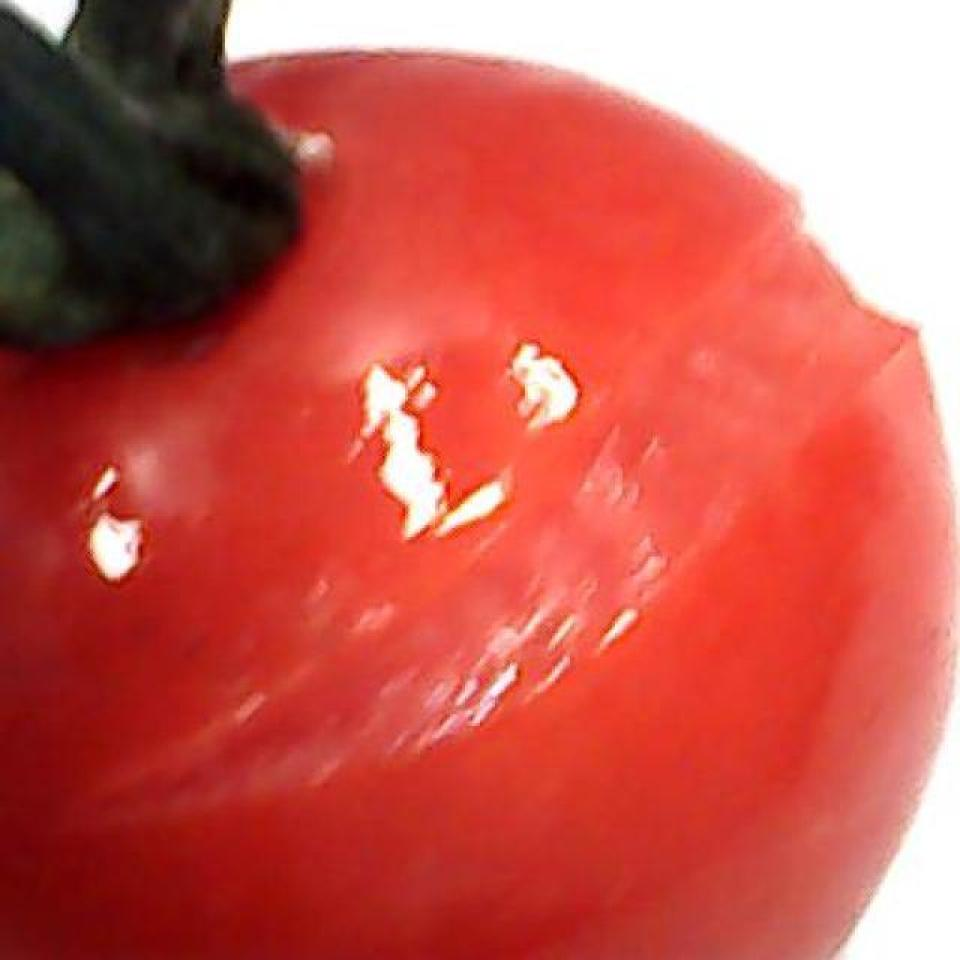Cracking: (45, 188, 950, 842)
